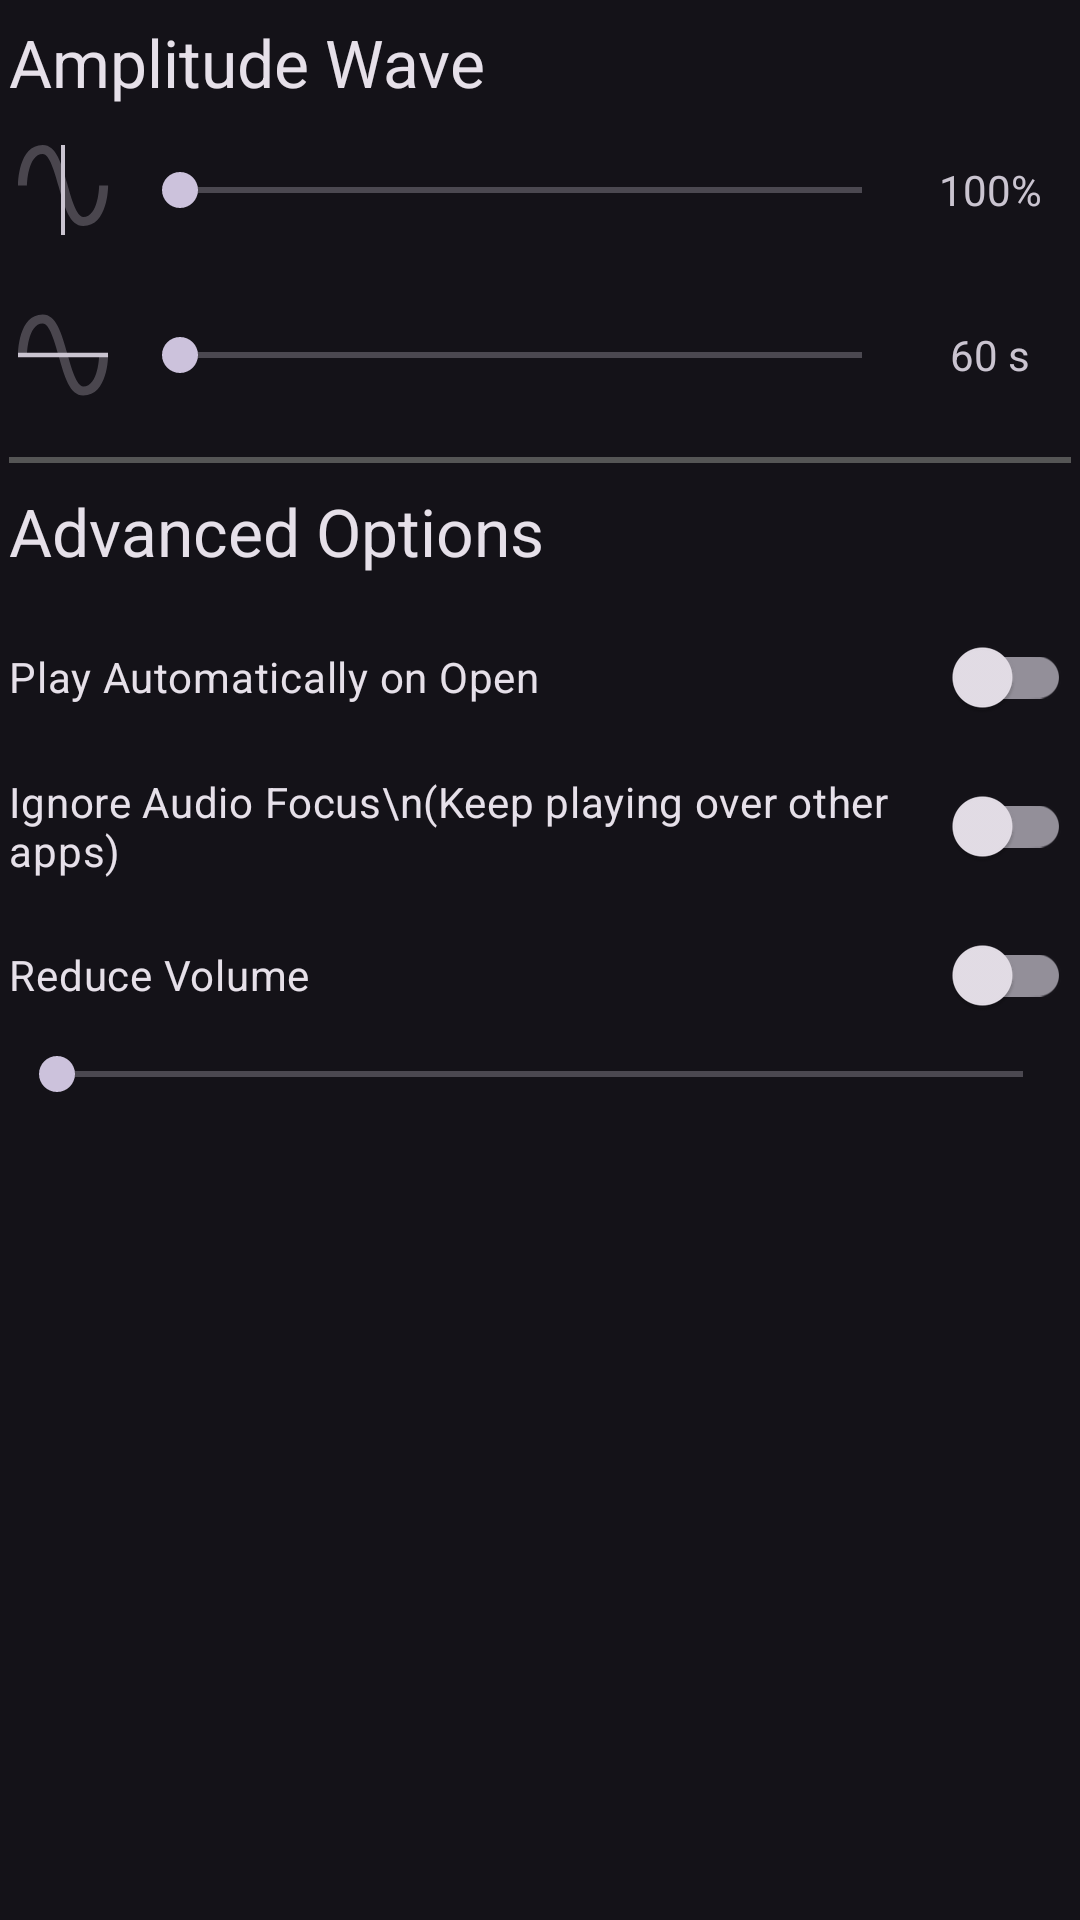

Icons on this 1080w x 1920h Android screen, each with the point to tap as [x,y]:
frequency: [63,355]
